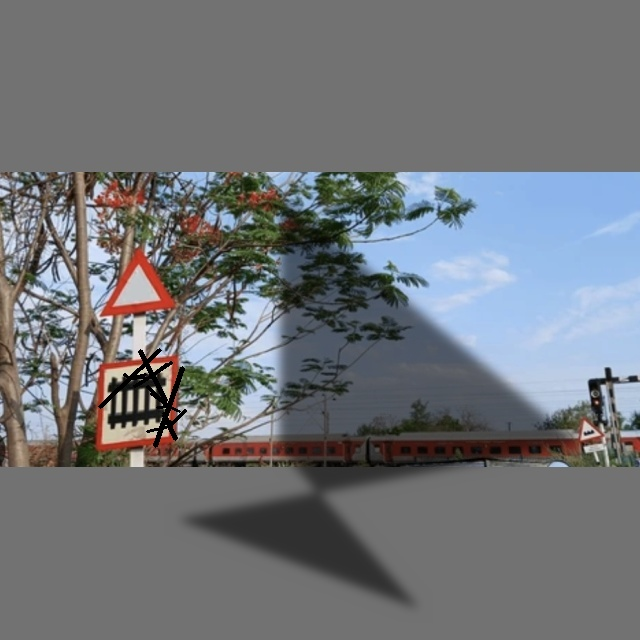Guarded_Level_Crossing: (95, 347, 184, 447)
